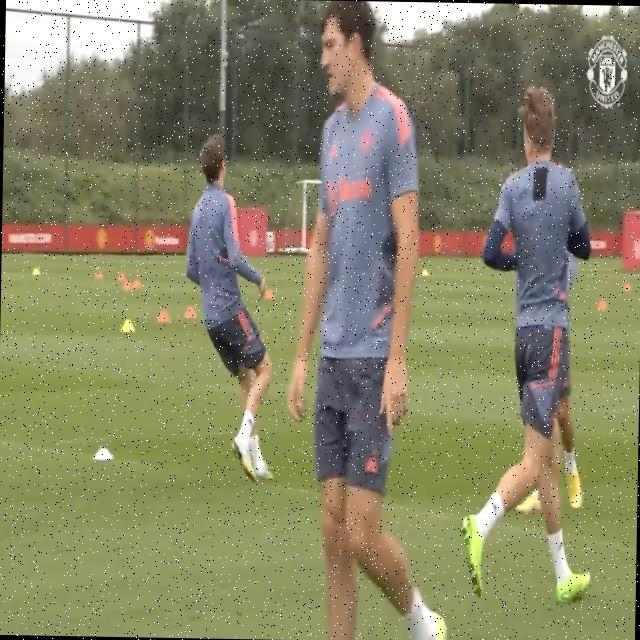Adidas: (365, 454, 380, 476)
